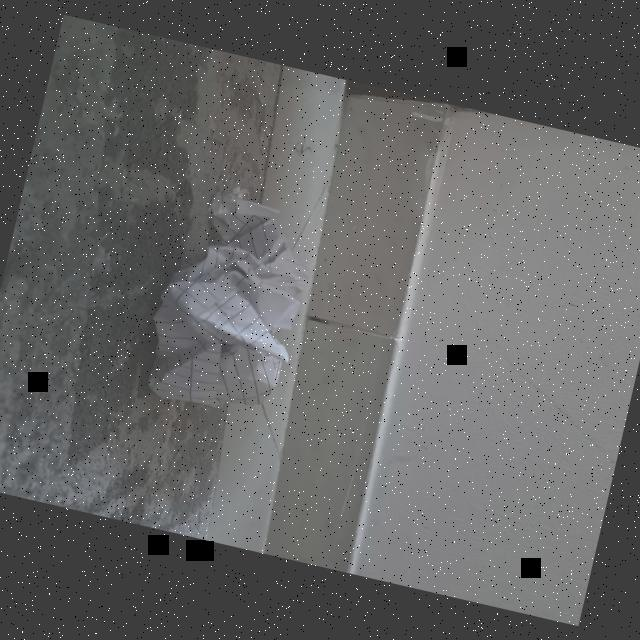scrap_paper: (142, 173, 325, 425)
